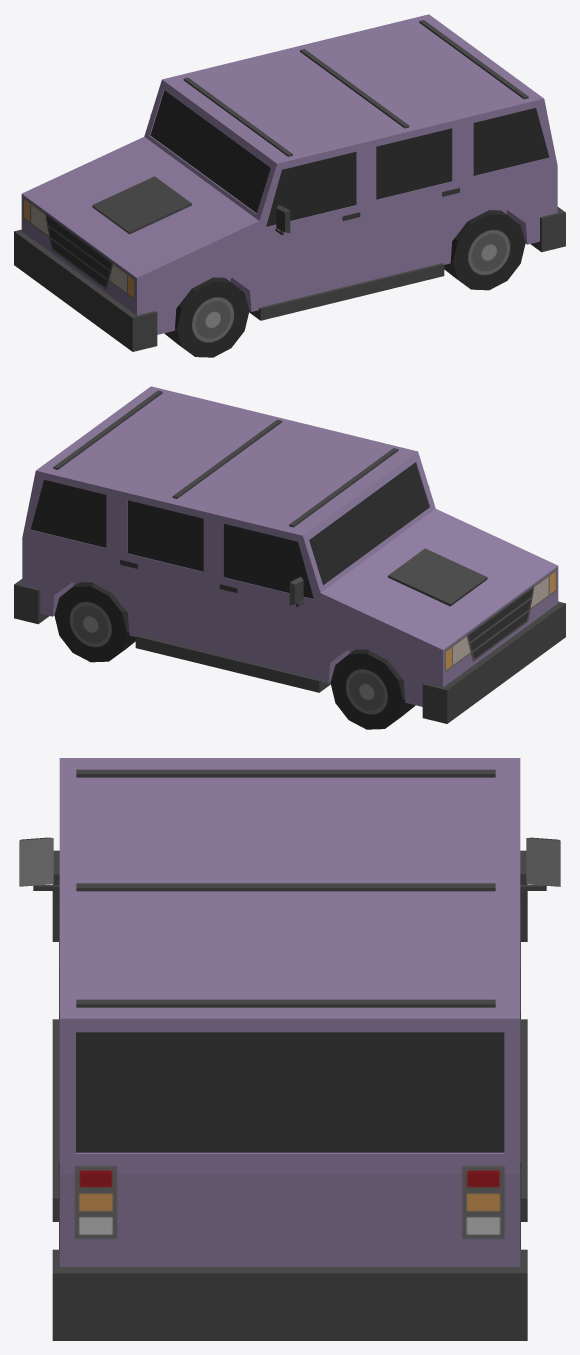
The model's file is suv.glb.
3 views of the same model, one above another, from view 1: azimuth 30°, elevation 25°; view 2: azimuth 150°, elevation 25°; view 3: azimuth 270°, elevation 25° (orthographic). The views are drawn at different scales.
Visible parts, largest first — view 1: Car Body, Wheel_FL, Wheel_RL; view 2: Car Body, Wheel_FR, Wheel_RR; view 3: Car Body.
Boxes of the visible parts, <box> form: Car Body: <box>14,14,565,351</box>; Wheel_FL: <box>164,277,249,357</box>; Wheel_RL: <box>444,210,525,290</box>; Car Body: <box>14,386,565,723</box>; Wheel_FR: <box>330,649,415,729</box>; Wheel_RR: <box>54,582,135,662</box>; Car Body: <box>19,758,560,1340</box>.
Size of the model in its own units: 5.73 by 2.27 by 3.1.
1 material, 1 textured.
